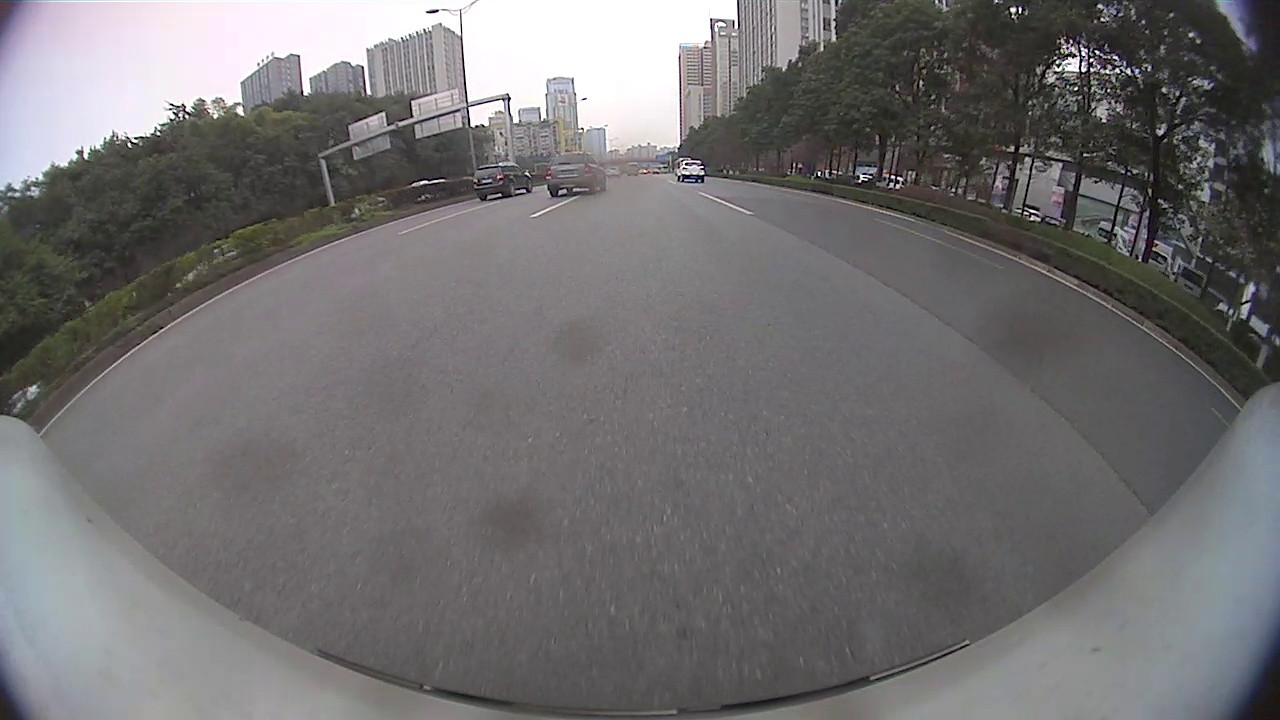car: (545, 151, 608, 198), (471, 162, 533, 201), (678, 157, 706, 184)
rear: (506, 178, 518, 197)
